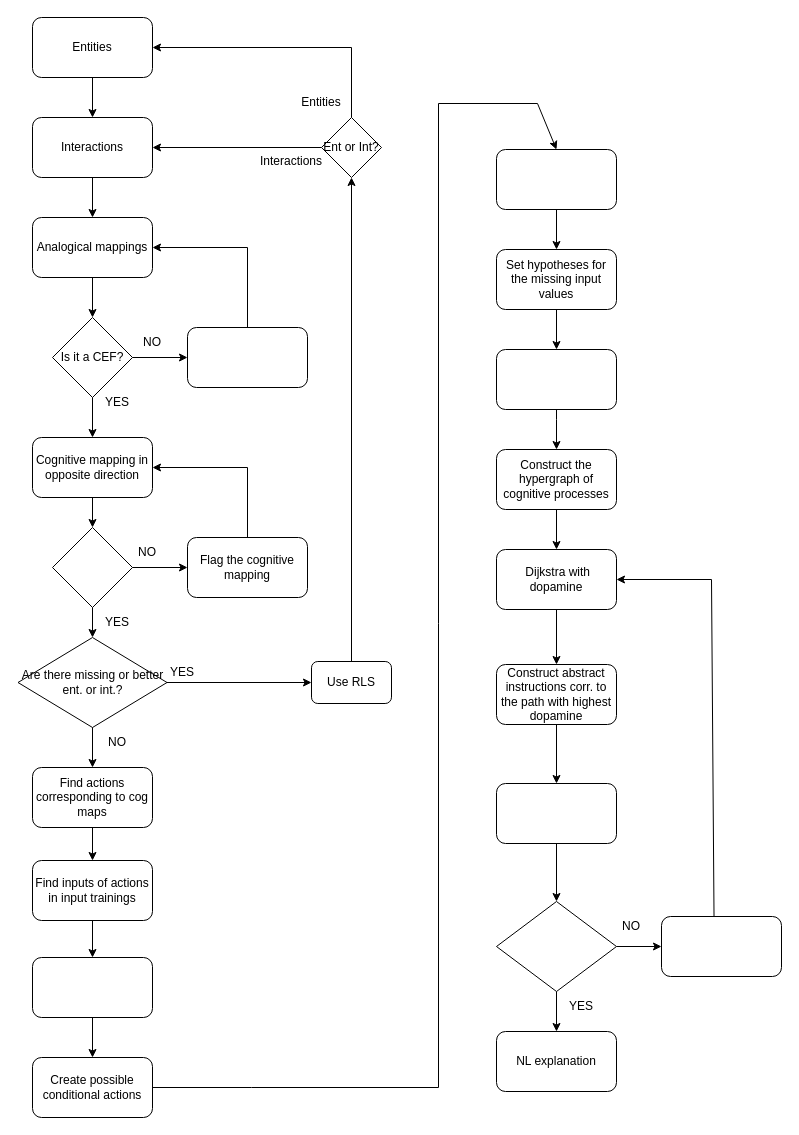
The diagram is 799 pixels wide and 1135 high, and some of its shapes have lost their labels. Each missing label, with the centre of its shape:
Does the path solve the puzzle?: (556,946)
Find initial entities for the applications of these instructions: (556,813)
Find values of input parameters: (556,179)
Flag the analogical mapping: (247,357)
Invariant properties using EAU or SitCon: (92,987)
RLE?: (92,567)
Set hypotheses for each permutation of cond. actions: (556,379)
Set to zero the dopamine of a subpath: (721,946)
